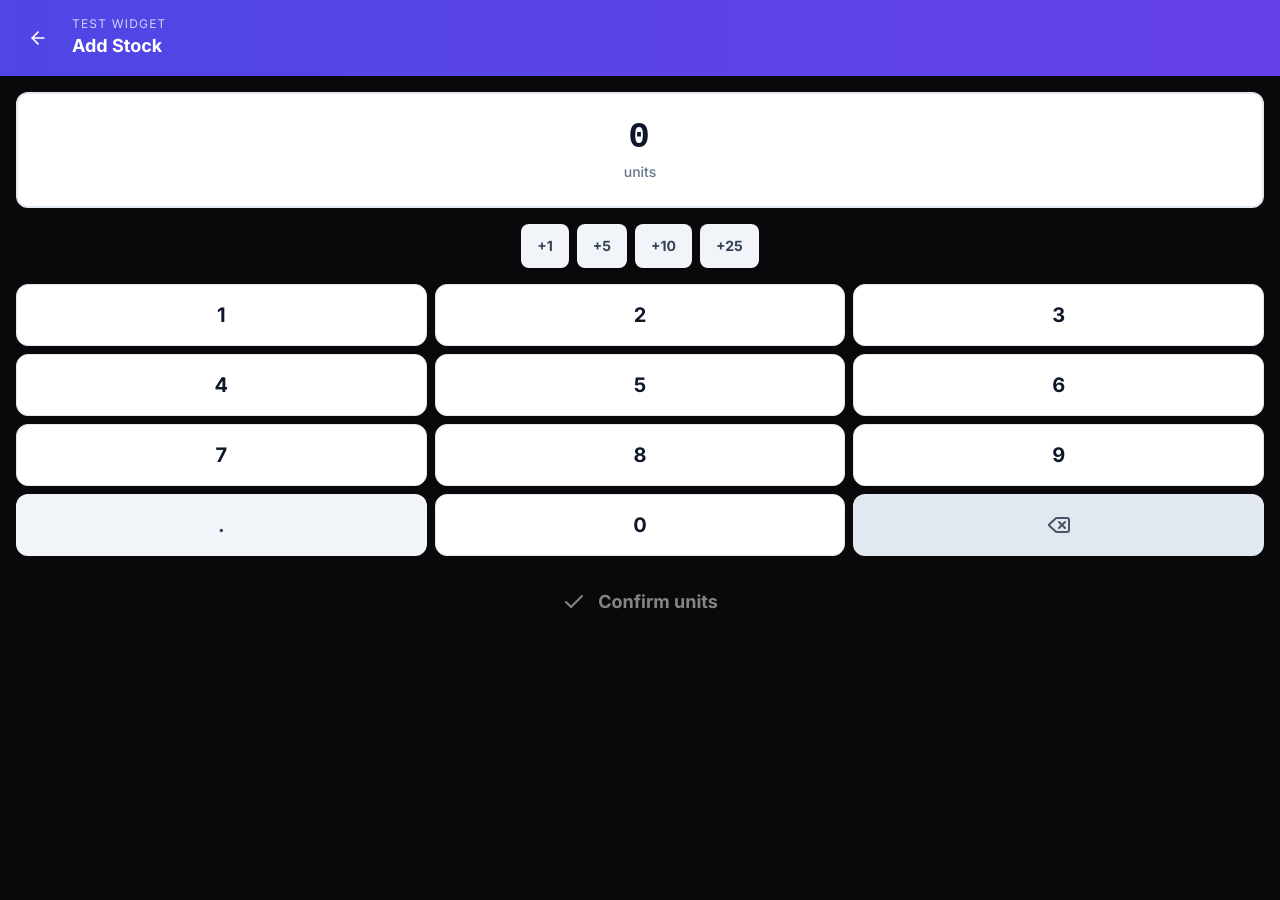
it: QuantityInput › handles delete key
Click the button with test id "key-4" at (221, 385), box [16, 354, 427, 416]
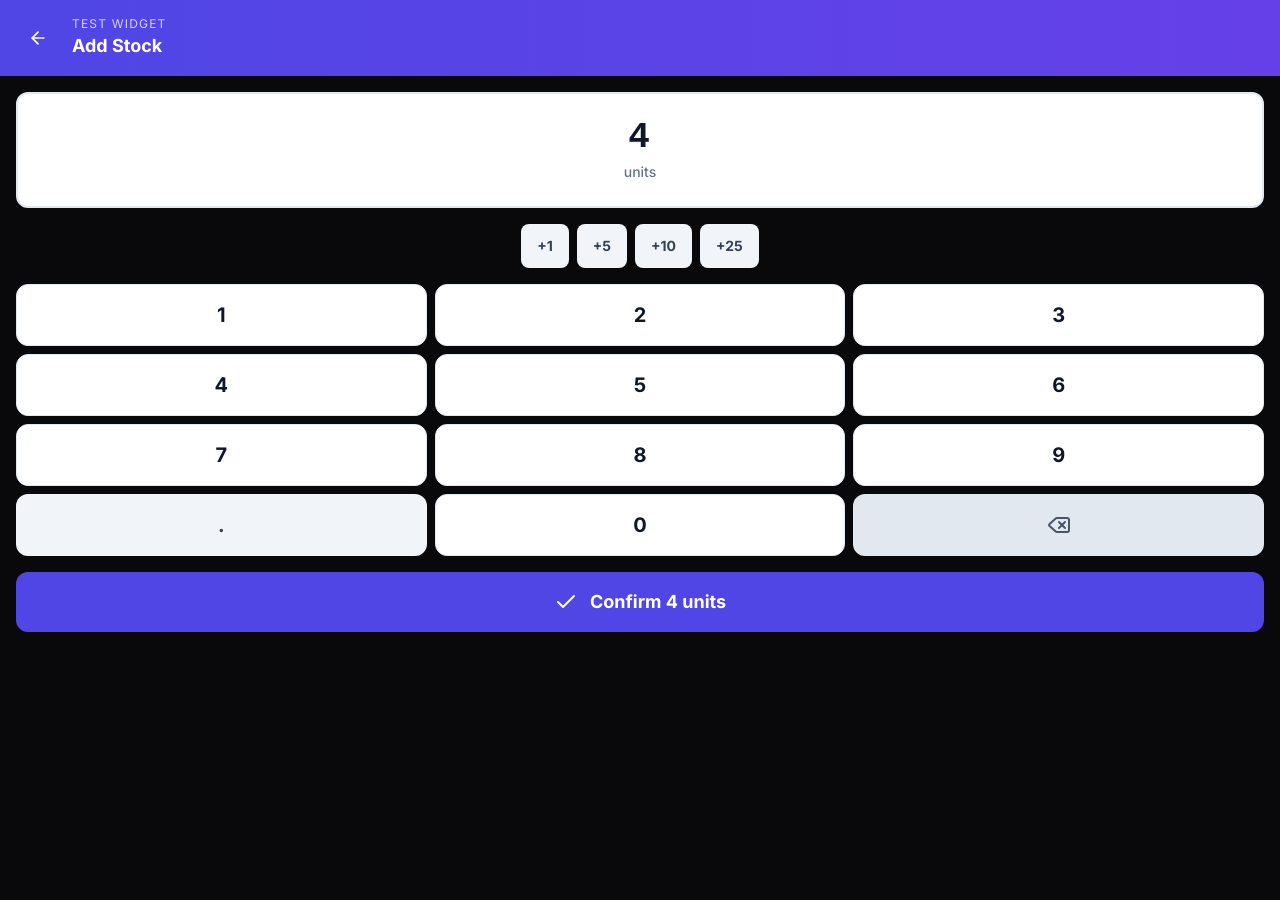
Click the button with test id "key-2" at (640, 315), box [435, 284, 845, 346]
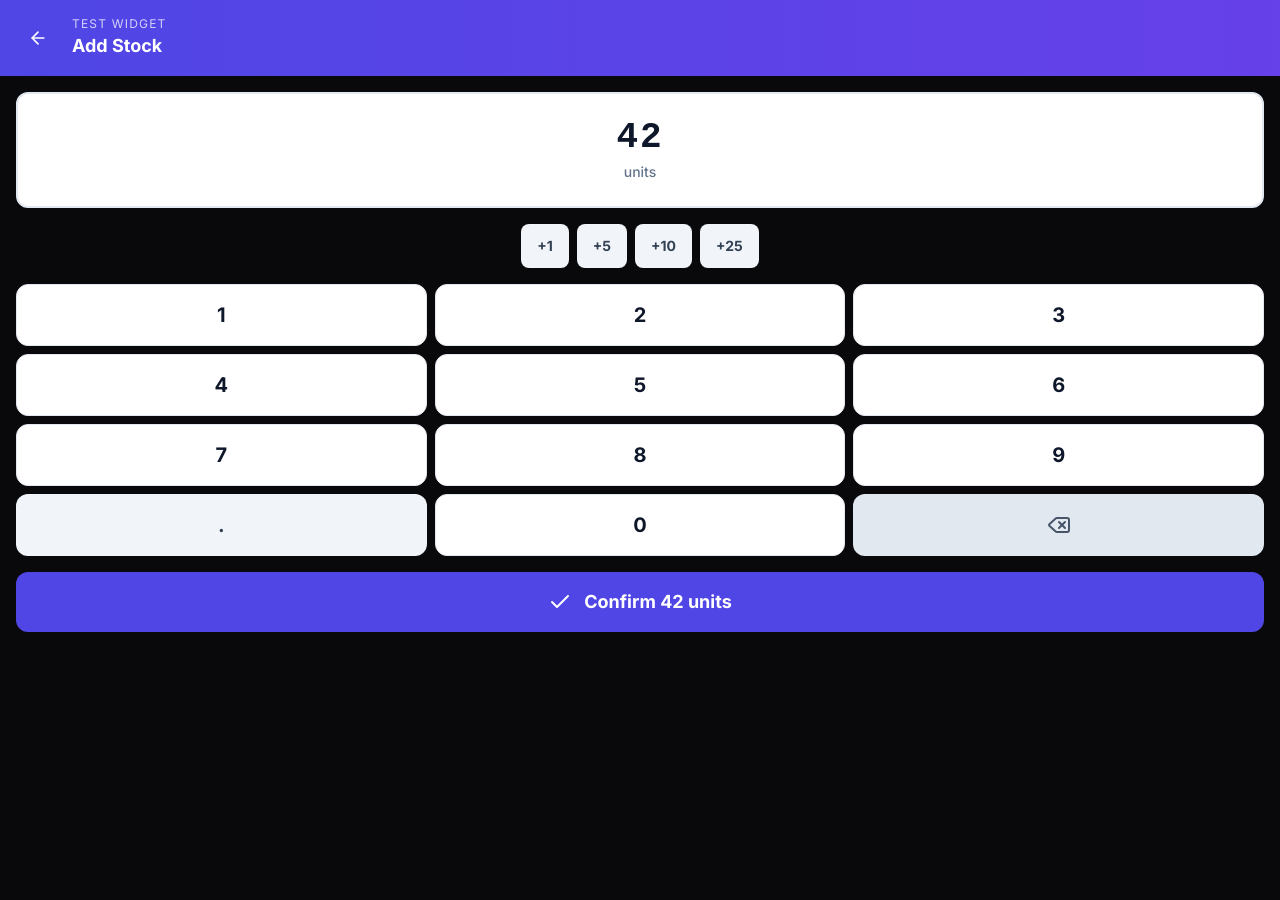
Result: the text with test id "display-value" reads "42" at [617, 117, 663, 158]
Click the button with test id "key-del" at (1059, 525), box [853, 494, 1264, 556]
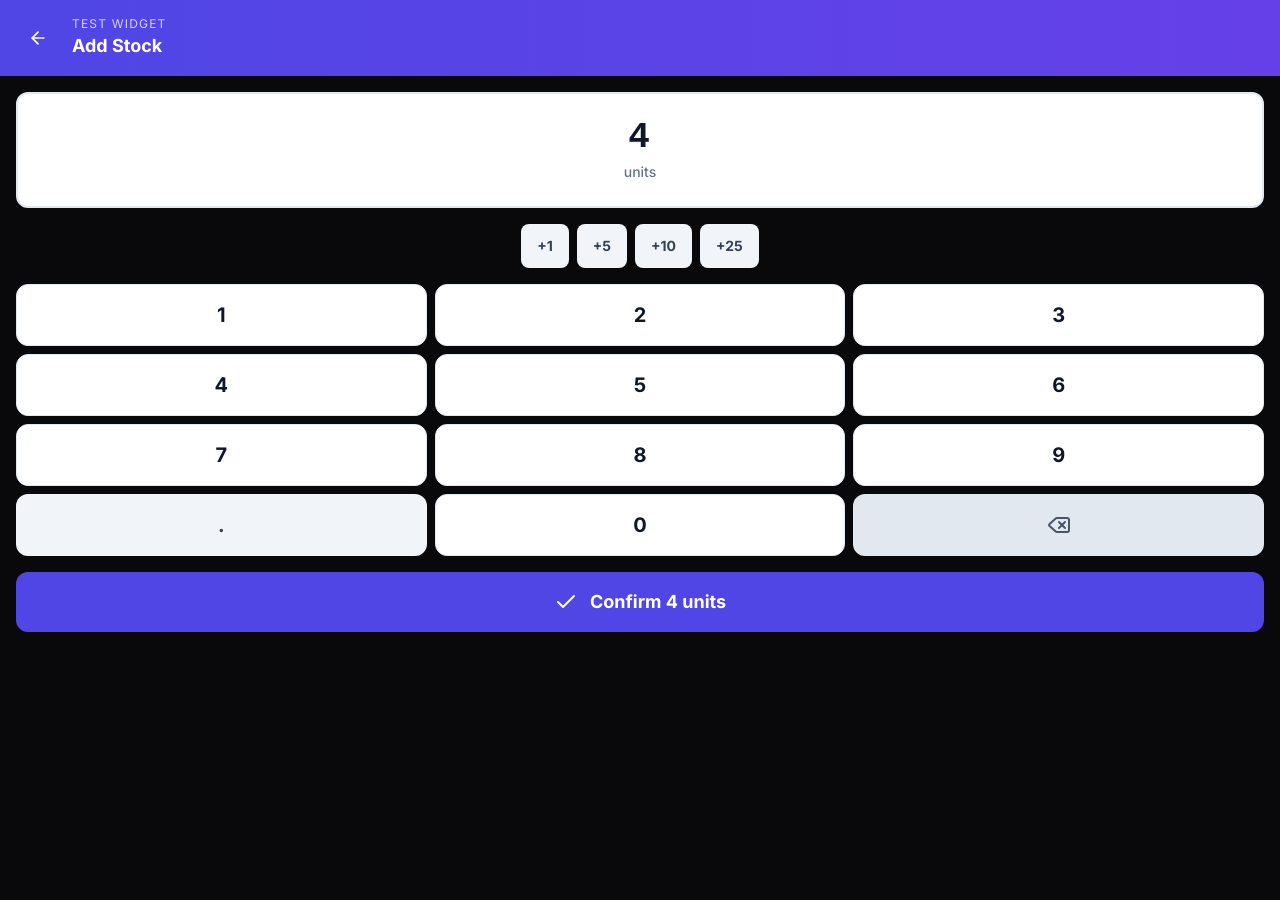
Result: the text with test id "display-value" reads "4" at [628, 117, 652, 158]
Click the button with test id "key-del" at (1059, 525), box [853, 494, 1264, 556]
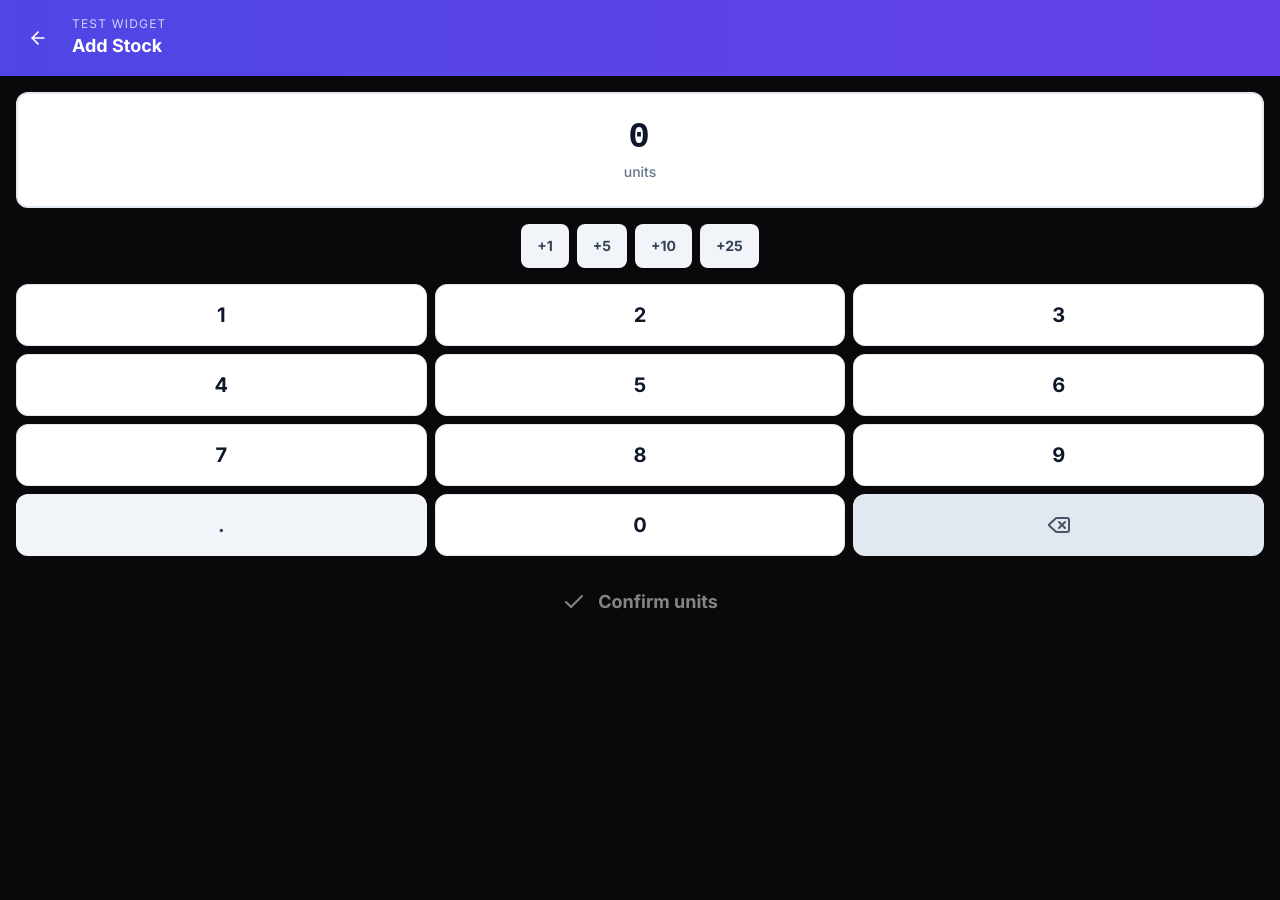
Result: the text with test id "display-value" reads "0" at [628, 117, 652, 158]
